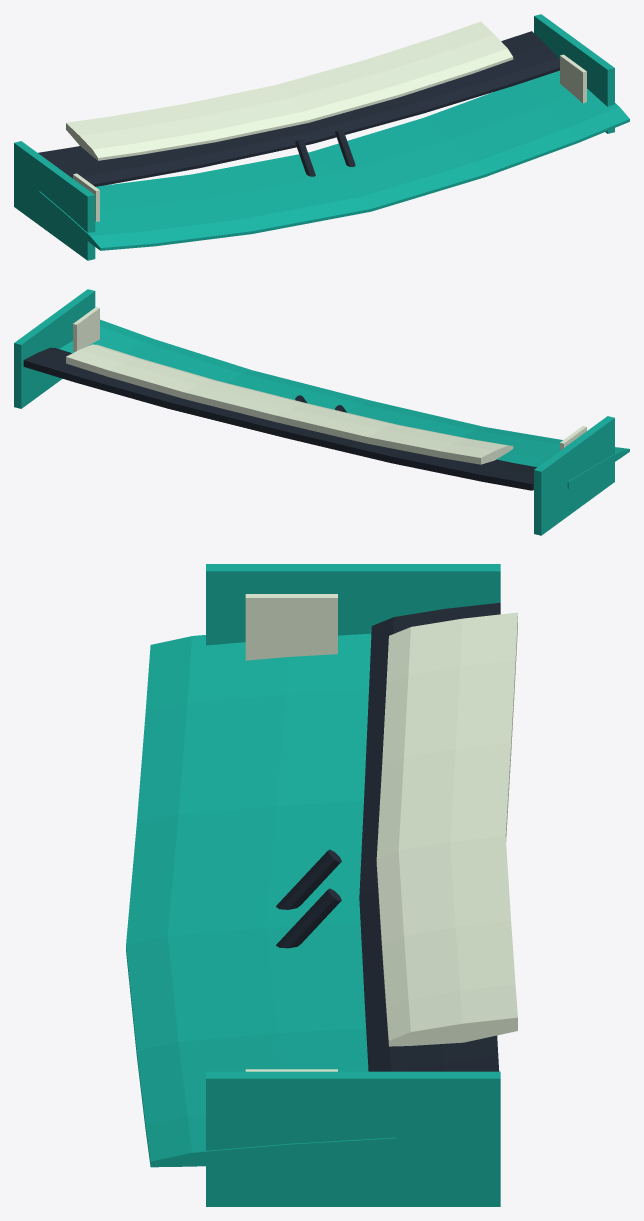
File: wave.glb
3 renders of one model, top to bottom at view 1: azimuth 30°, elevation 25°; view 2: azimuth 150°, elevation 25°; view 3: azimuth 270°, elevation 25°, orthographic. The views are drawn at different scales.
Visible parts, largest first — view 1: FrontWing; view 2: FrontWing; view 3: FrontWing.
Boxes of the visible parts, x1,y1,x2,y2 form: FrontWing: (14, 14, 629, 260); FrontWing: (14, 289, 629, 535); FrontWing: (126, 564, 517, 1206).
Bounding box in the file's own units: 1.99 × 0.2435 × 0.638.
